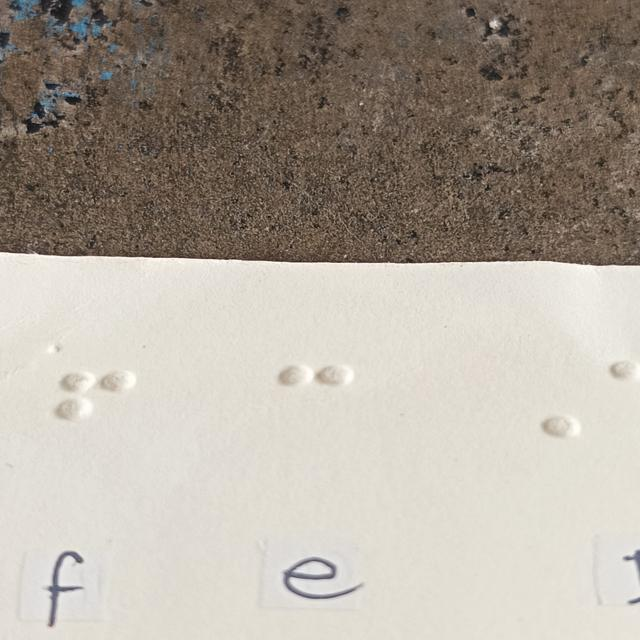e: (280, 362, 354, 445)
f: (57, 368, 131, 451)
